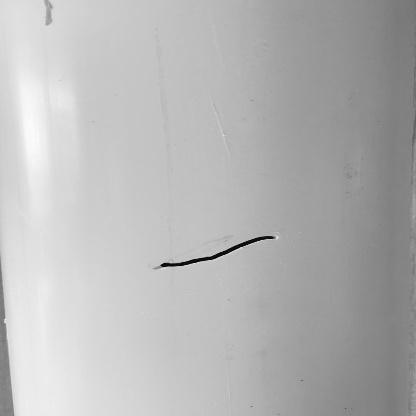fengxi: (153, 227, 284, 275)
